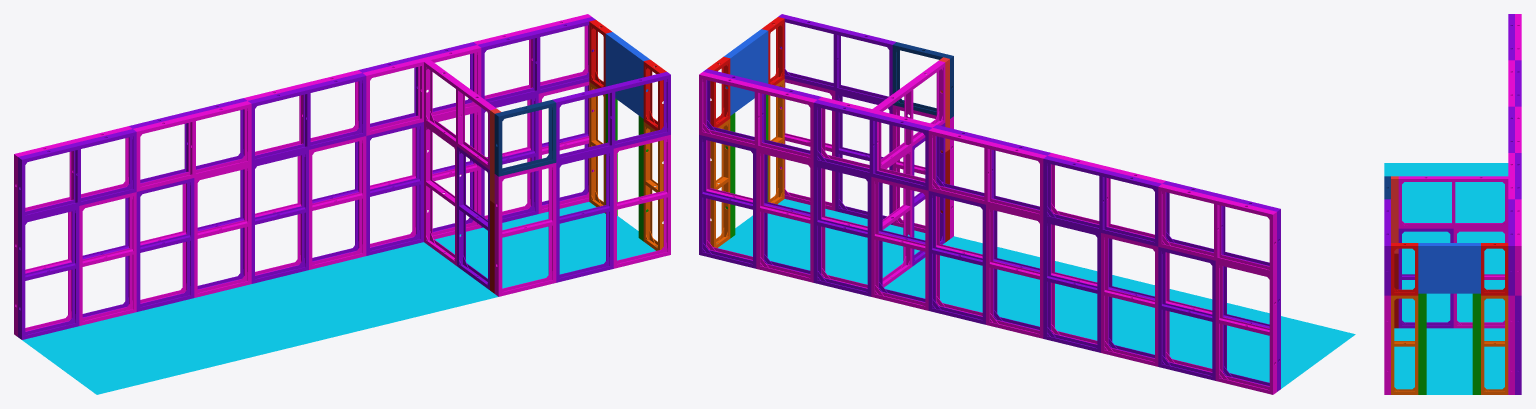
3 renders of one model, left to right at view 1: azimuth 30°, elevation 25°; view 2: azimuth 150°, elevation 25°; view 3: azimuth 270°, elevation 25°, orthographic. The views are drawn at different scales.
Parts seen in each view (by area): view 1: Obj3d66-12120929-5-529, Деталь 1 (×18), Деталь 6 (×6), Деталь 2 (×4), Box889645, Box889638, Деталь 4, Box889644; view 2: Obj3d66-12120929-5-529, Деталь 1 (×16), Деталь 2 (×15), Box889645, Деталь 3 (×2), Деталь 6 (×2), Box889638, Box889643; view 3: Obj3d66-12120929-5-529, Box889645, Деталь 1 (×6), Деталь 19 (×7), Деталь 2 (×4), Деталь 20 (×6), Box889644, Box889643, Box889638, Деталь 18 (×2), Деталь 6 (×2), Деталь 5 (×2) (+4 smaller).
Boxes of the visible parts, left/top/right/bottom form: Obj3d66-12120929-5-529: left=22, top=202, right=656, bottom=394; Деталь 1 (×18): left=18, top=19, right=670, bottom=339; Деталь 6 (×6): left=75, top=139, right=613, bottom=323; Деталь 2 (×4): left=18, top=61, right=666, bottom=296; Box889645: left=605, top=32, right=649, bottom=118; Box889638: left=490, top=108, right=500, bottom=293; Деталь 4: left=366, top=122, right=423, bottom=252; Box889644: left=638, top=116, right=648, bottom=241; Obj3d66-12120929-5-529: left=717, top=199, right=1355, bottom=388; Деталь 1 (×16): left=699, top=42, right=1280, bottom=380; Деталь 2 (×15): left=703, top=16, right=1276, bottom=375; Box889645: left=724, top=29, right=768, bottom=115; Деталь 3 (×2): left=756, top=149, right=1273, bottom=377; Деталь 6 (×2): left=867, top=179, right=1273, bottom=391; Box889638: left=939, top=57, right=949, bottom=242; Box889643: left=725, top=113, right=735, bottom=238; Obj3d66-12120929-5-529: left=1384, top=163, right=1508, bottom=394; Box889645: left=1418, top=243, right=1480, bottom=293; Деталь 1 (×6): left=1384, top=14, right=1514, bottom=328; Деталь 19 (×7): left=1385, top=60, right=1520, bottom=394; Деталь 2 (×4): left=1391, top=176, right=1508, bottom=394; Деталь 20 (×6): left=1385, top=14, right=1520, bottom=246; Box889644: left=1418, top=293, right=1426, bottom=394; Box889643: left=1472, top=293, right=1480, bottom=394; Box889638: left=1391, top=176, right=1398, bottom=328; Деталь 18 (×2): left=1385, top=246, right=1514, bottom=394; Деталь 6 (×2): left=1391, top=298, right=1484, bottom=391; Деталь 5 (×2): left=1402, top=179, right=1504, bottom=325.
Size of the model in its own units: 10 by 3 by 2.5.
